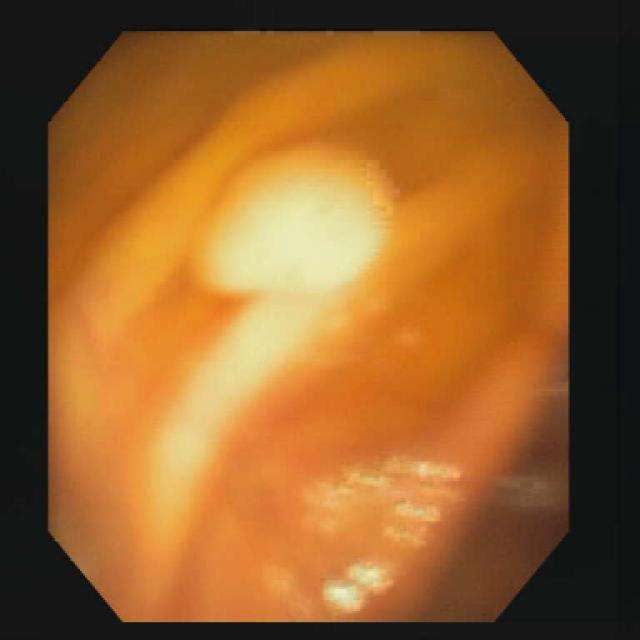tumor: (208, 169, 385, 293)
